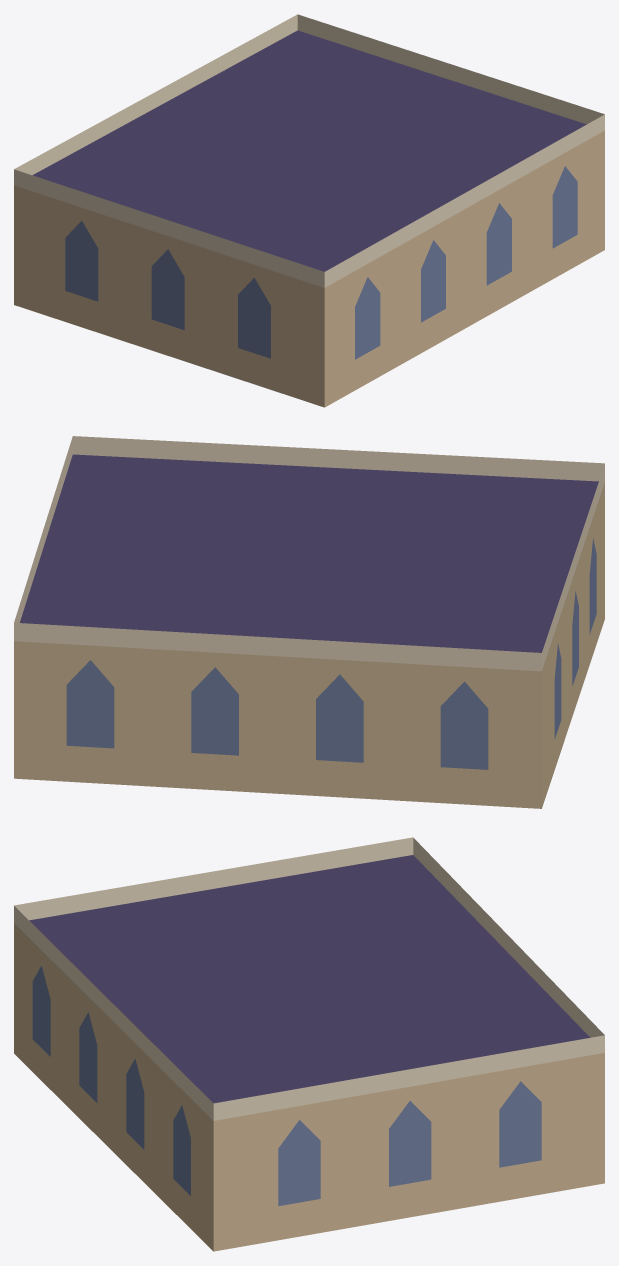
File: b-029-day.glb
The picture shows the model from 3 angles, top to bottom: view 1: azimuth 30°, elevation 25°; view 2: azimuth 150°, elevation 25°; view 3: azimuth 270°, elevation 25°; orthographic projection. The views are drawn at different scales.
Parts seen in each view (by area): view 1: campus/b-029-day-0; view 2: campus/b-029-day-0; view 3: campus/b-029-day-0.
Boxes of the visible parts, left/top/right/bottom form: campus/b-029-day-0: left=14, top=14, right=604, bottom=407; campus/b-029-day-0: left=14, top=436, right=604, bottom=808; campus/b-029-day-0: left=14, top=837, right=604, bottom=1251.
Size of the model in its own units: 17.91 by 4.65 by 16.81.
